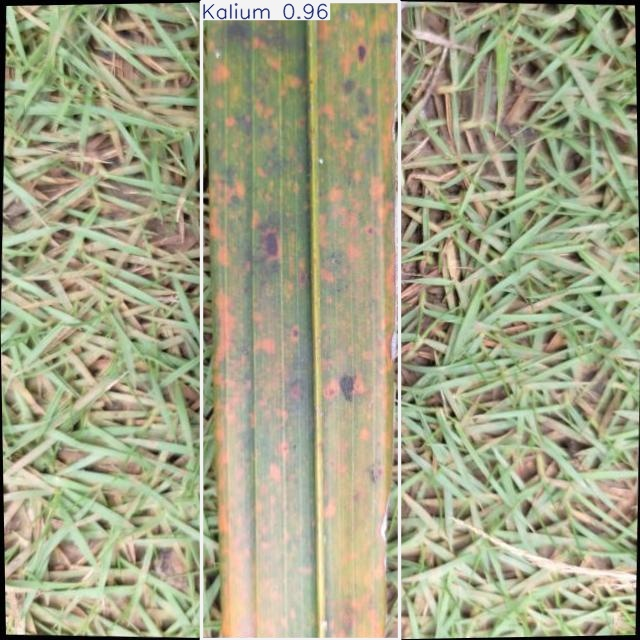Kalium: (202, 2, 400, 639)
